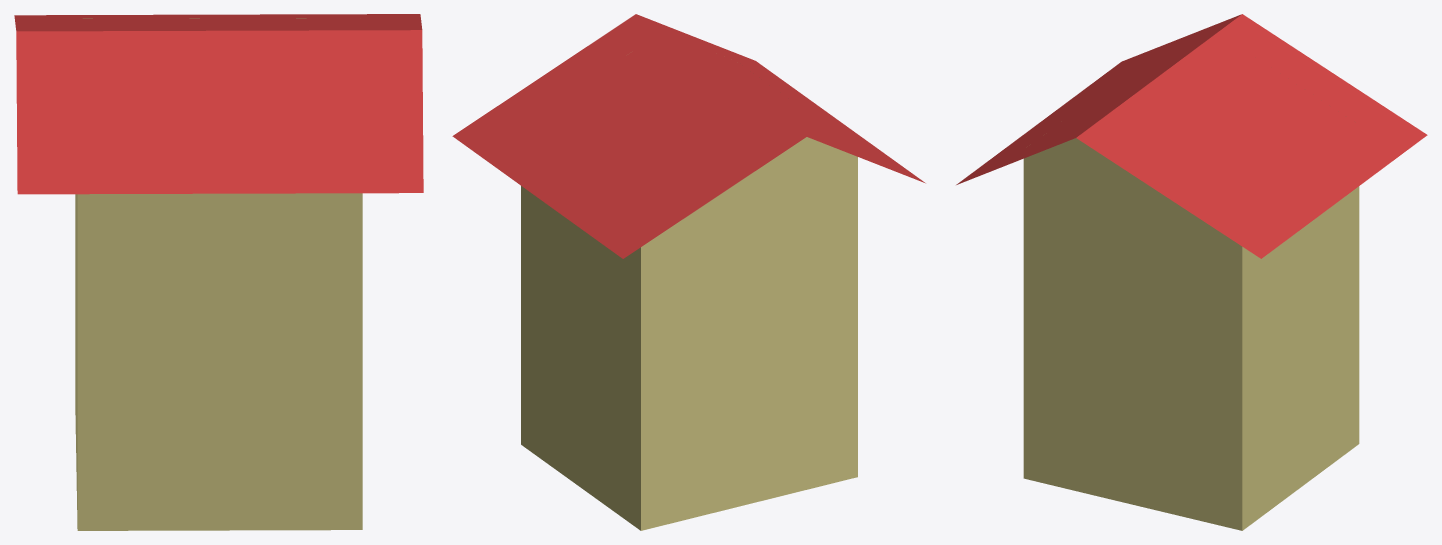
3 views of the same model, side by side, from view 1: azimuth 30°, elevation 25°; view 2: azimuth 150°, elevation 25°; view 3: azimuth 270°, elevation 25° (orthographic). The views are drawn at different scales.
Size of the model in its own units: 6.98 by 7.06 by 6.22.
